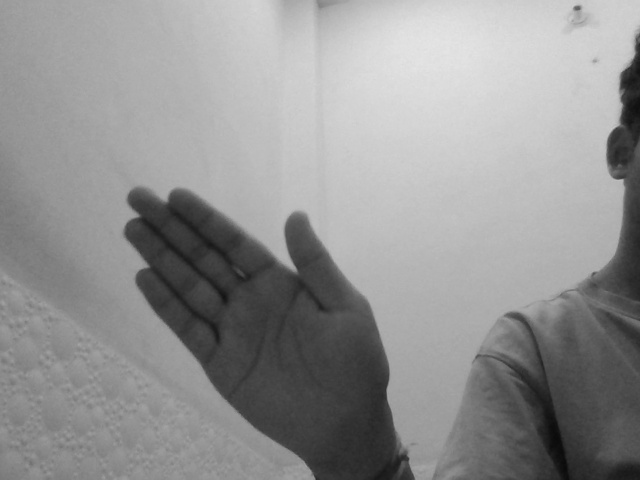Hello: (119, 176, 396, 464)
